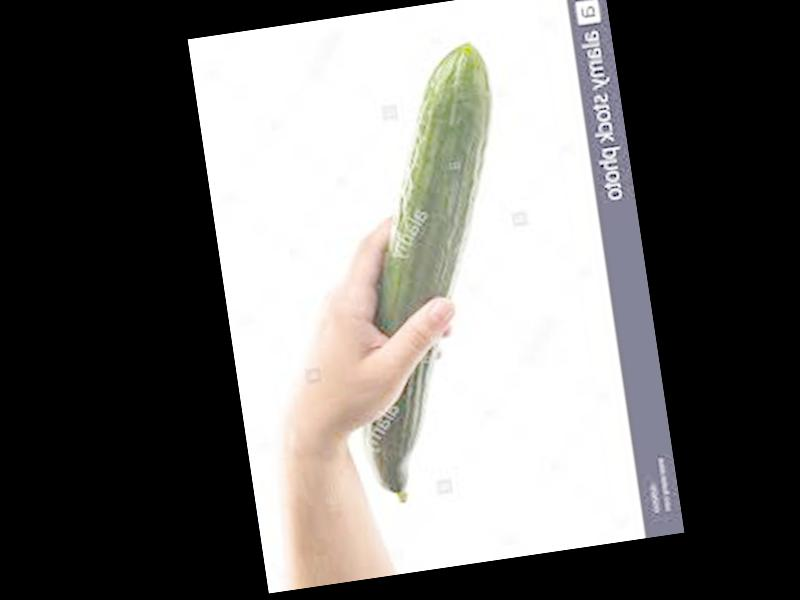Cucumber: (308, 39, 549, 509)
